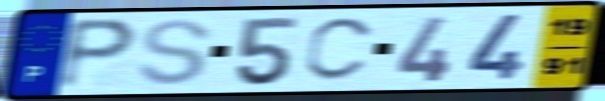4: (464, 11, 531, 83), (391, 13, 455, 85)
5: (233, 14, 302, 88)
C: (301, 15, 380, 85)
P: (54, 16, 142, 92)
S: (134, 17, 215, 88)
